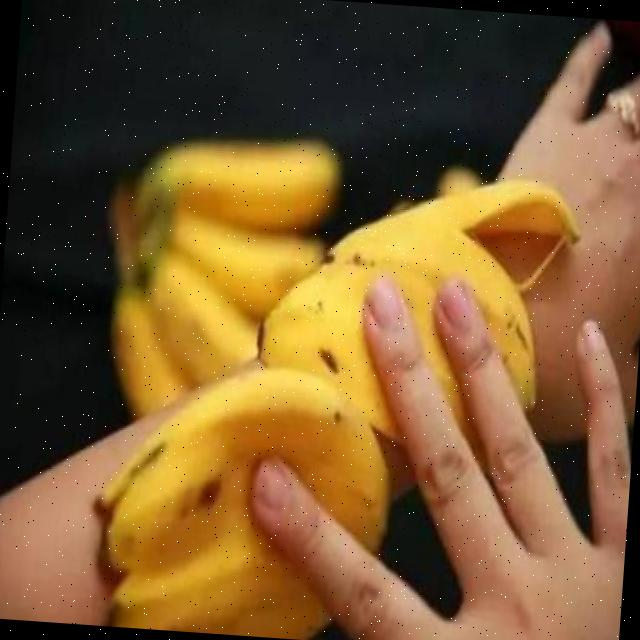banana-peel: (84, 135, 584, 640), (86, 353, 399, 640)
